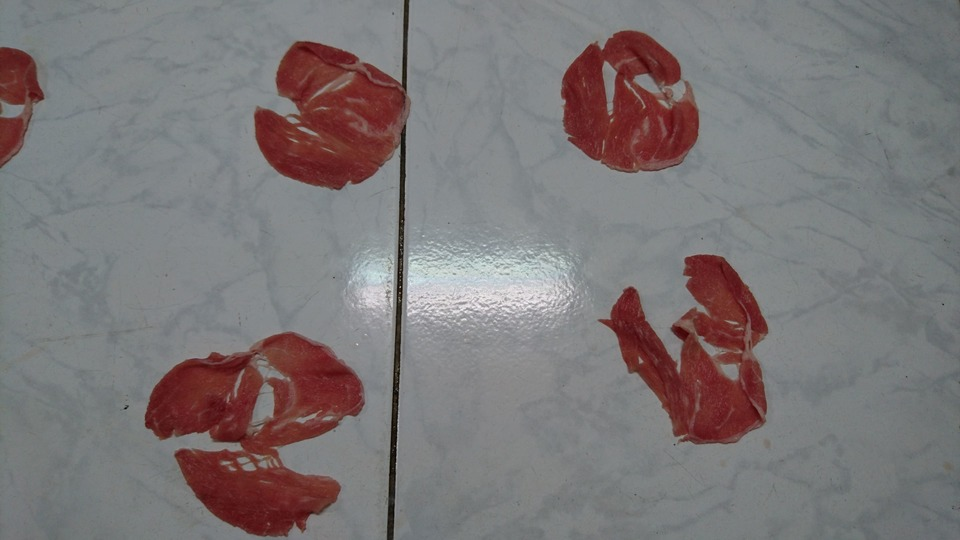restructured meat: (128, 324, 367, 535), (588, 239, 777, 442), (253, 20, 412, 191), (546, 45, 708, 182), (3, 50, 42, 181)
